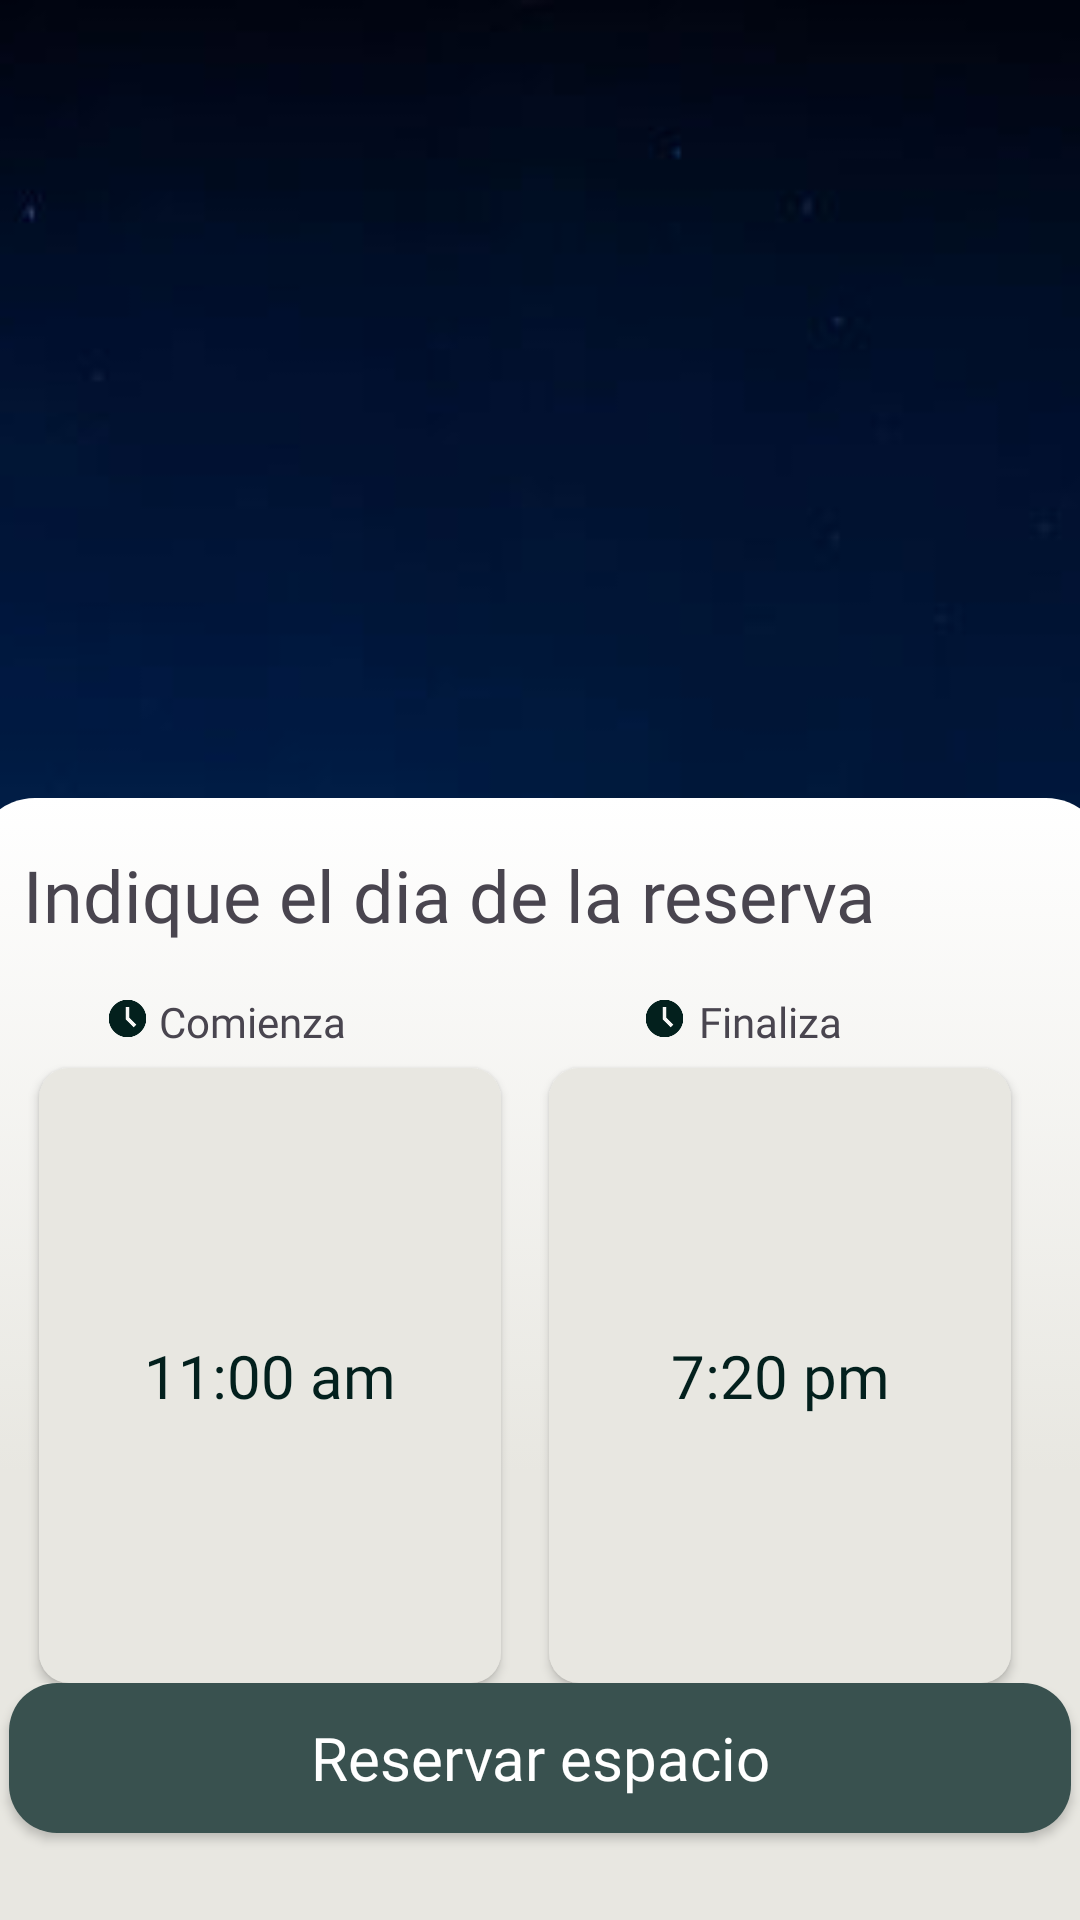

Where to tap for icons on this 1080 x 1920 app screen, as (x=x, y=y):
reloj: (x=127, y=1018), (x=664, y=1018)
